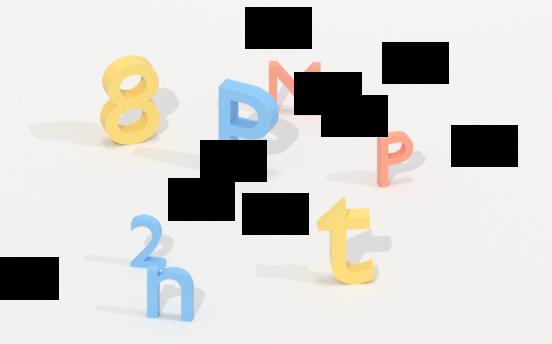2: (127, 213, 168, 274)
8: (97, 49, 161, 153)
M-hoa: (262, 56, 327, 125)
n: (143, 263, 197, 326)
p: (217, 76, 281, 175), (373, 126, 415, 192)
t: (315, 194, 378, 287)
